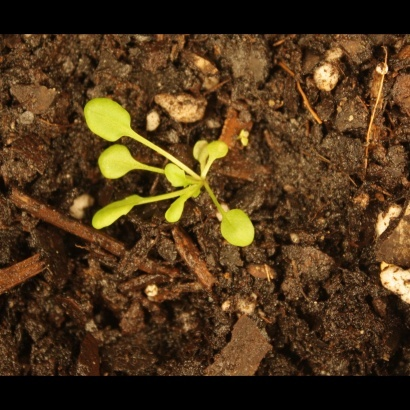leaf: (80, 96, 136, 143), (91, 194, 149, 234), (211, 206, 259, 252), (96, 146, 138, 181), (164, 190, 190, 231), (159, 161, 191, 194), (206, 136, 235, 166), (191, 139, 214, 169)
